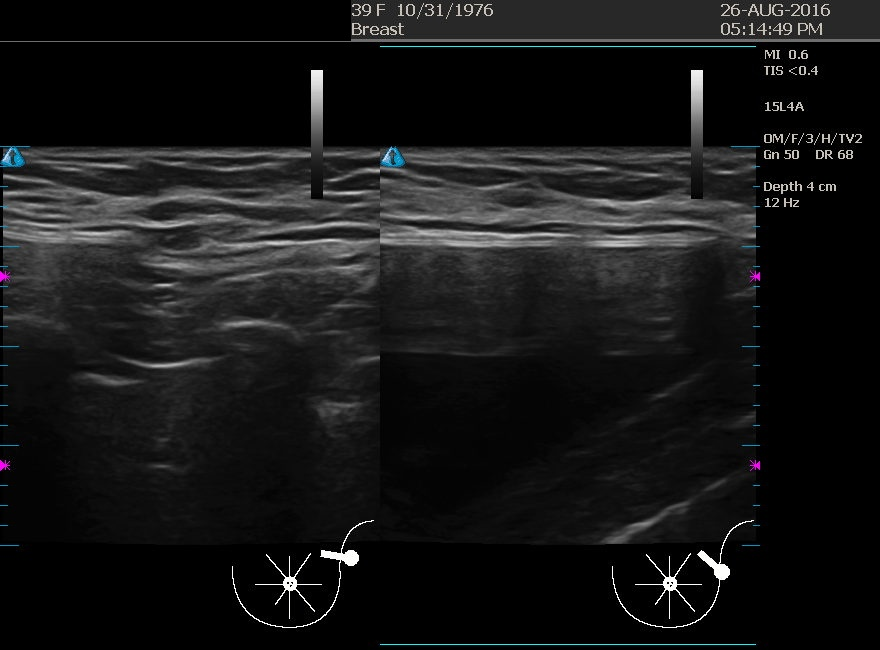BIRADS_2: (105, 153, 305, 354), (416, 148, 616, 349)
